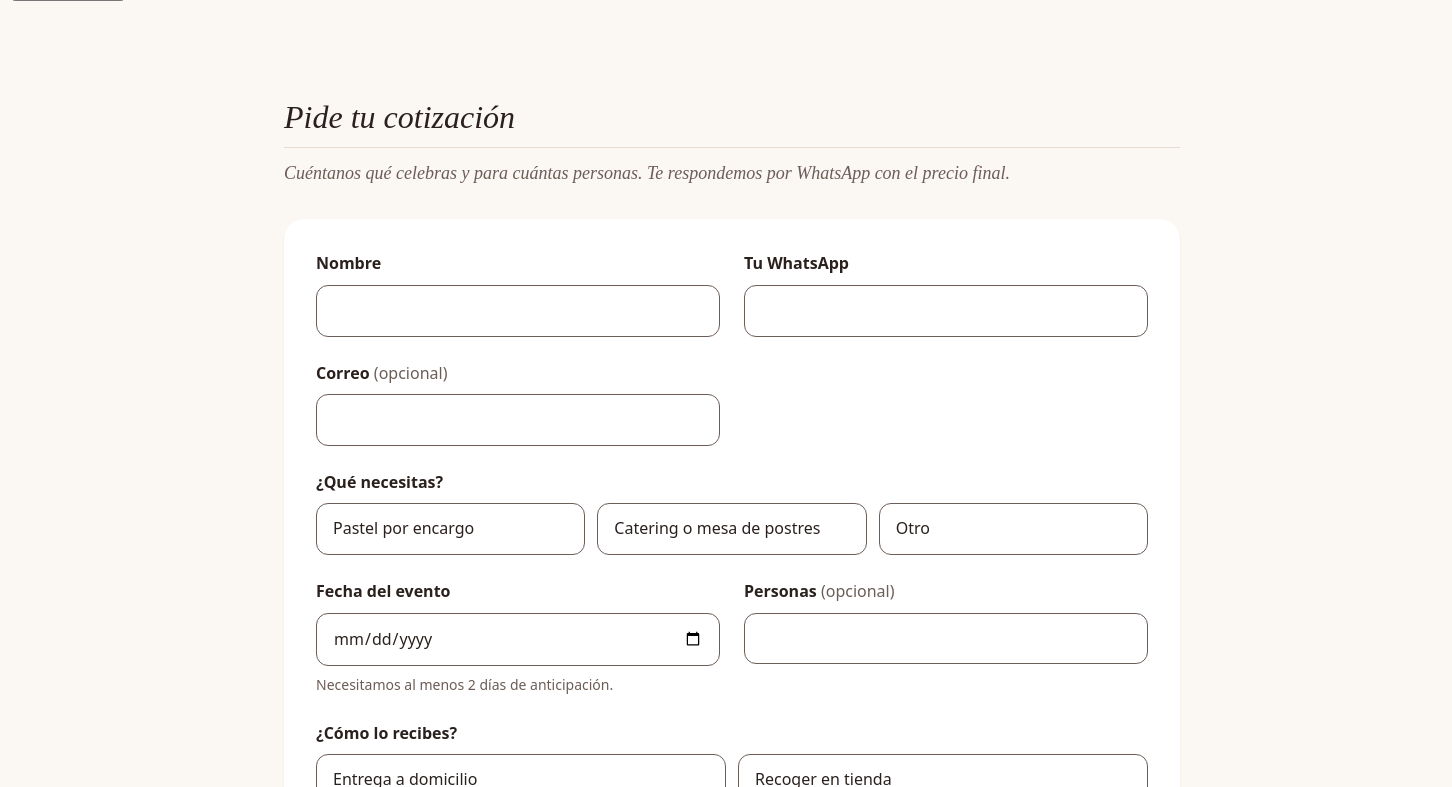
ContactForm › con datos válidos envía, muestra el éxito y ofrece continuar por WhatsApp con el resumen
Type "Ana Pérez" into the field labelled "Nombre" at (518, 311), box [316,285,720,337]
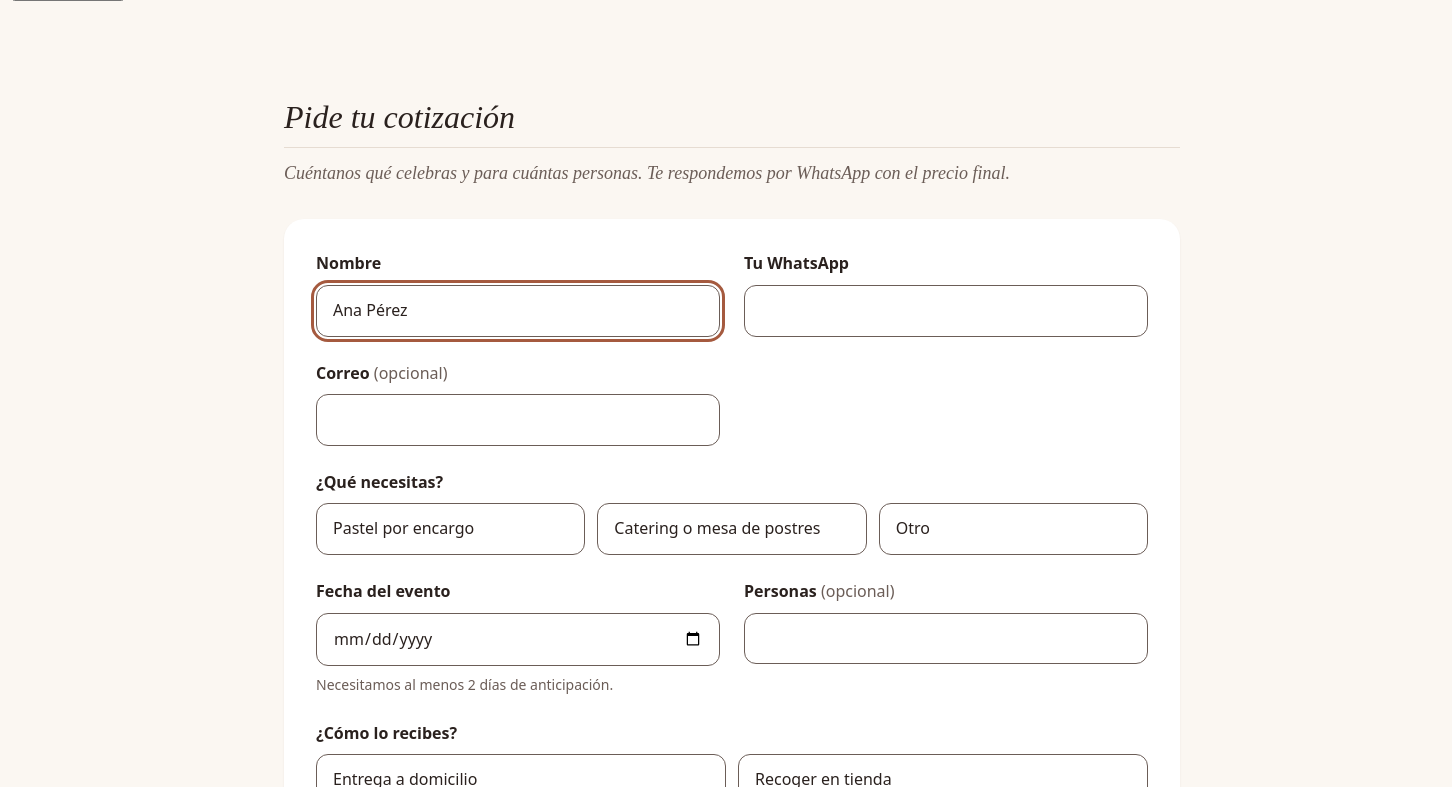
Type "55 1234 5678" into the field labelled "Tu WhatsApp" at (946, 311), box [744,285,1148,337]
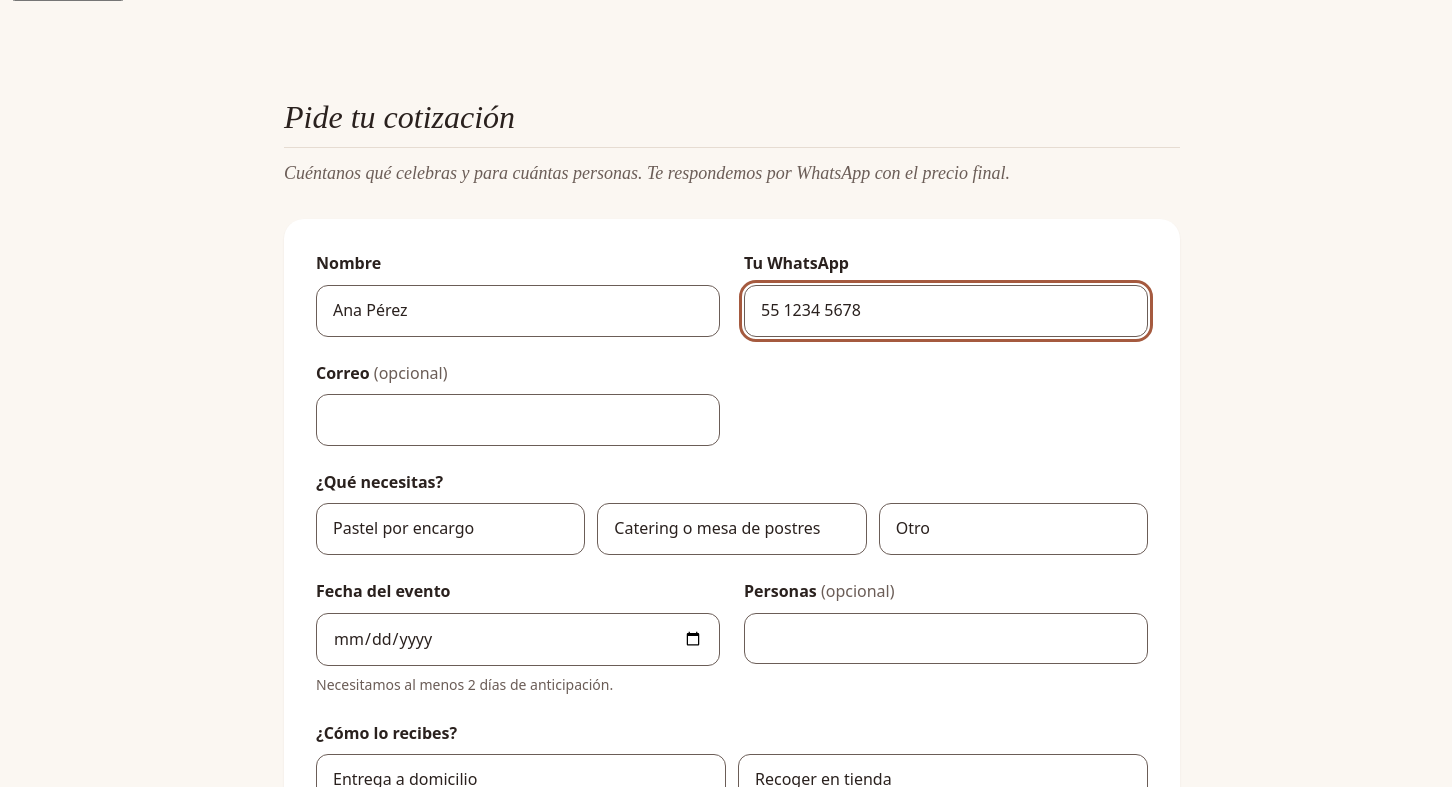
Click the radio button labelled "Pastel por encargo" at (451, 529), box [316,503,585,555]
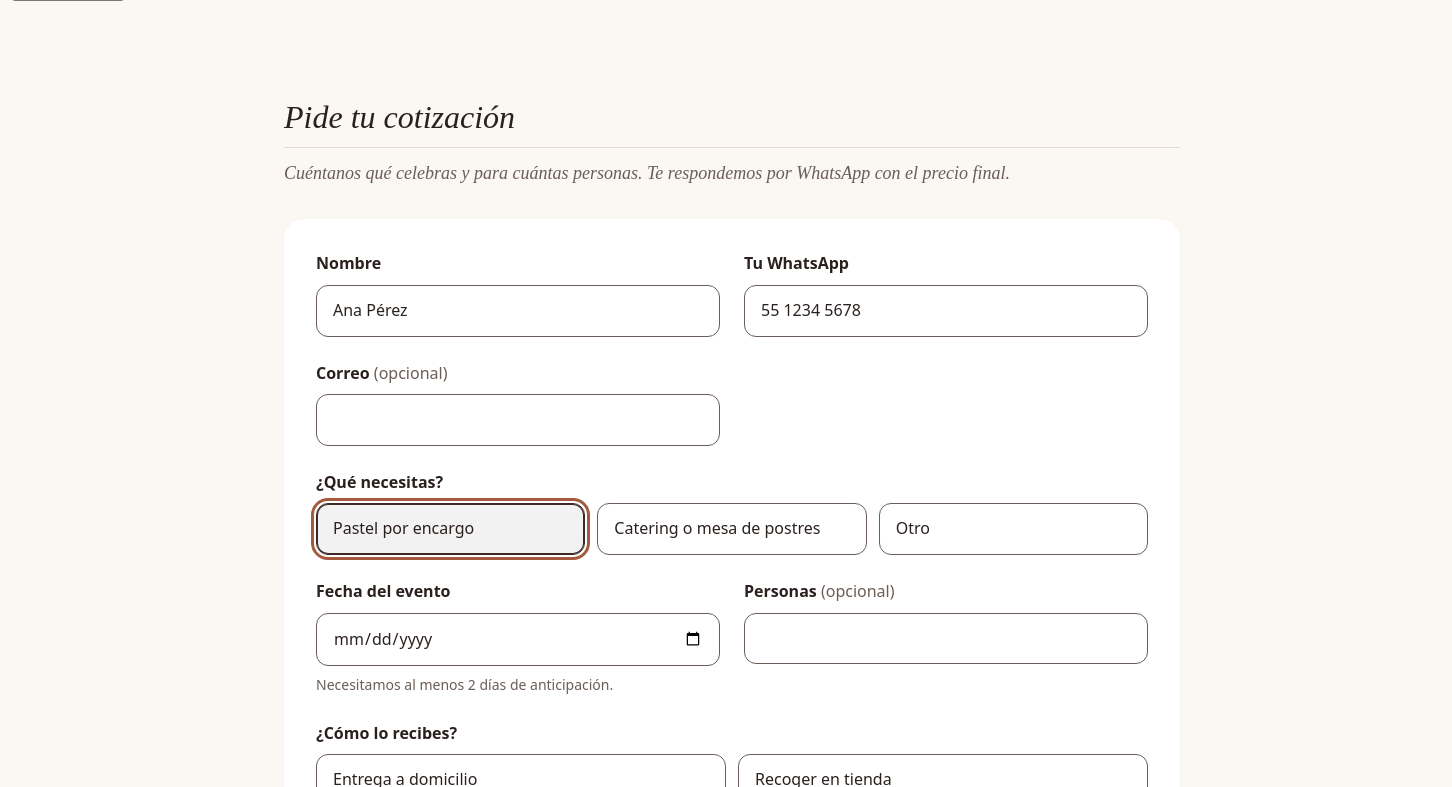
Type "2026-11-05" into the date field labelled "Fecha del evento" at (518, 639), box [316,612,720,666]
(page scrolled)
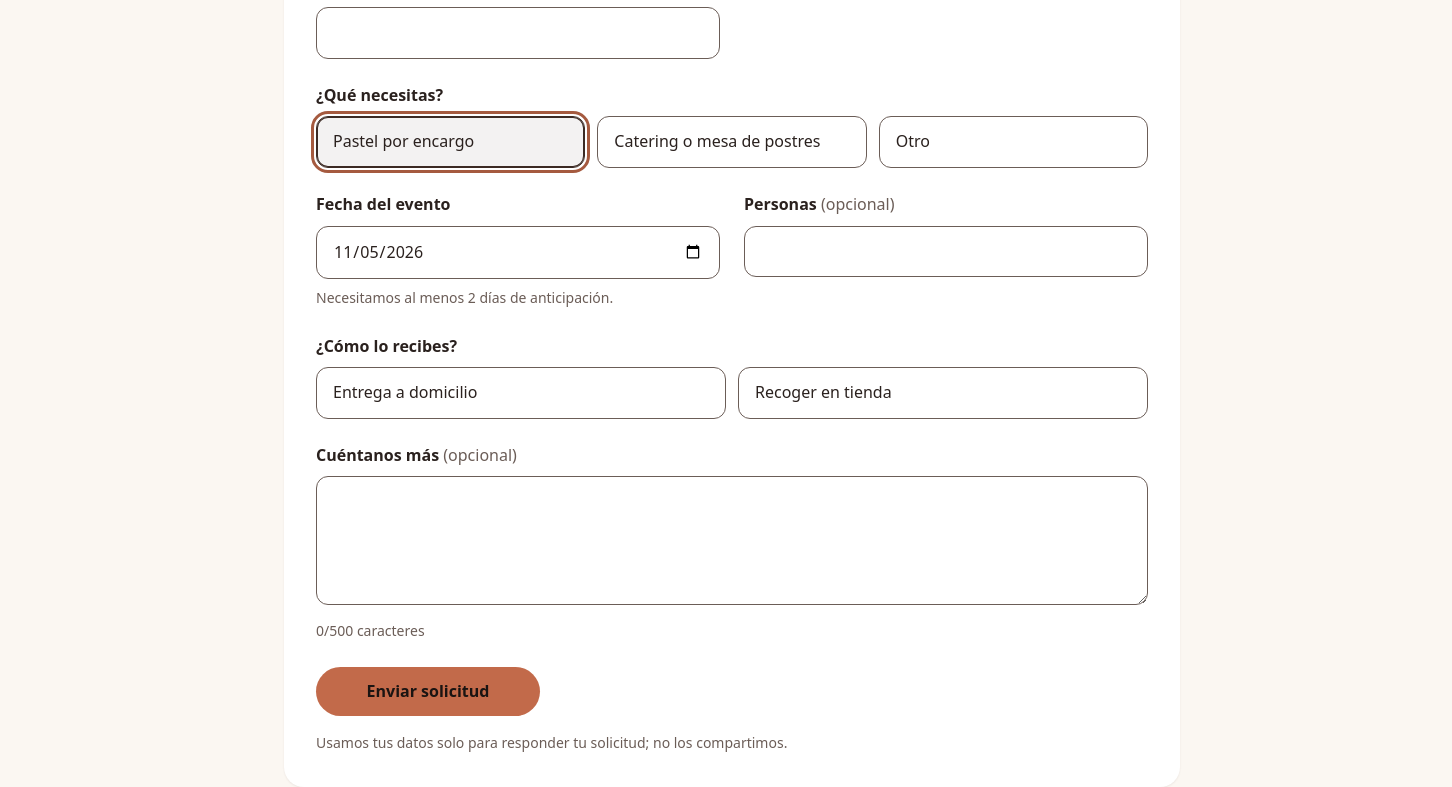
Click the radio button labelled "Recoger en tienda" at (943, 393), box [738,367,1148,419]
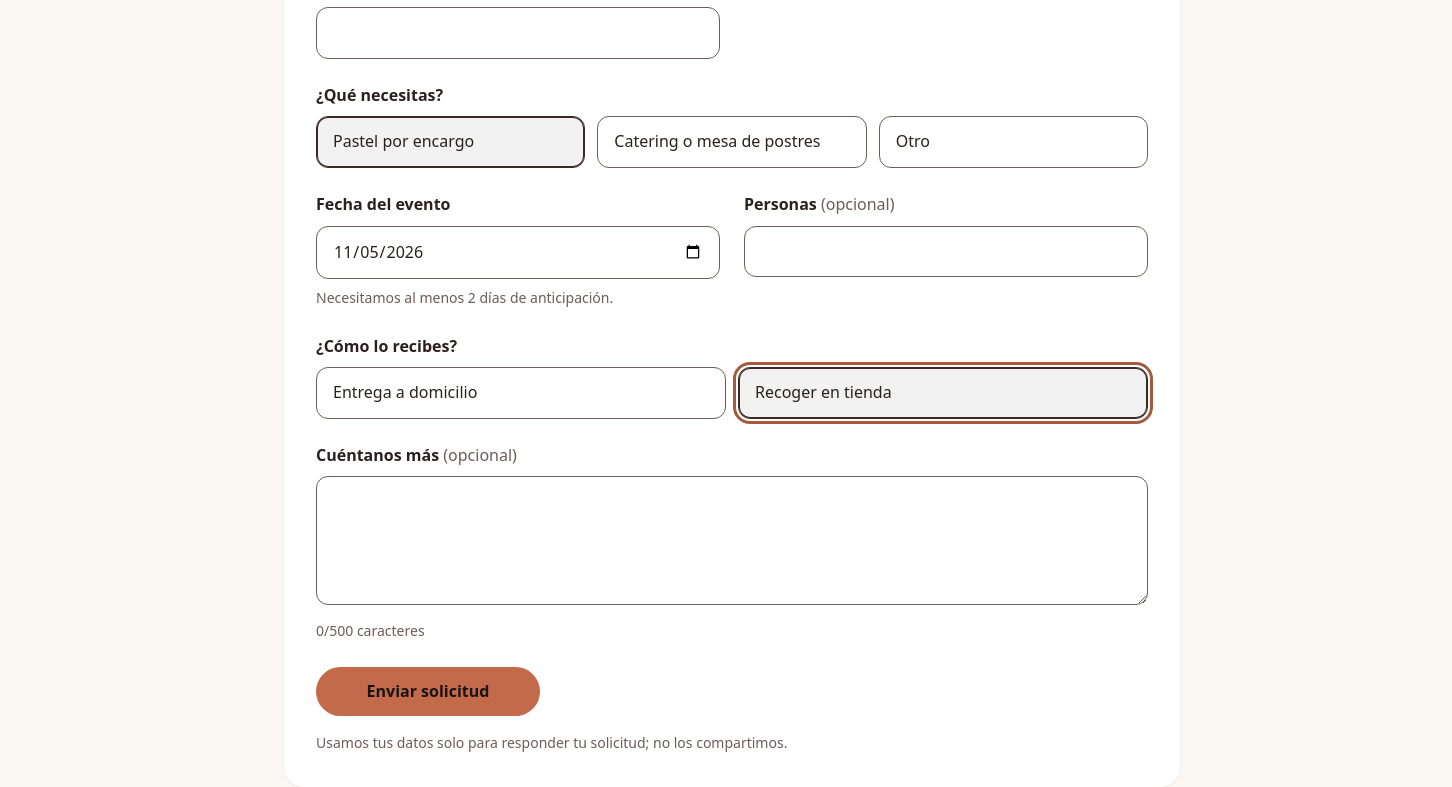
Click the button "Enviar solicitud" at (428, 692), box [316,667,540,716]
(page scrolled)
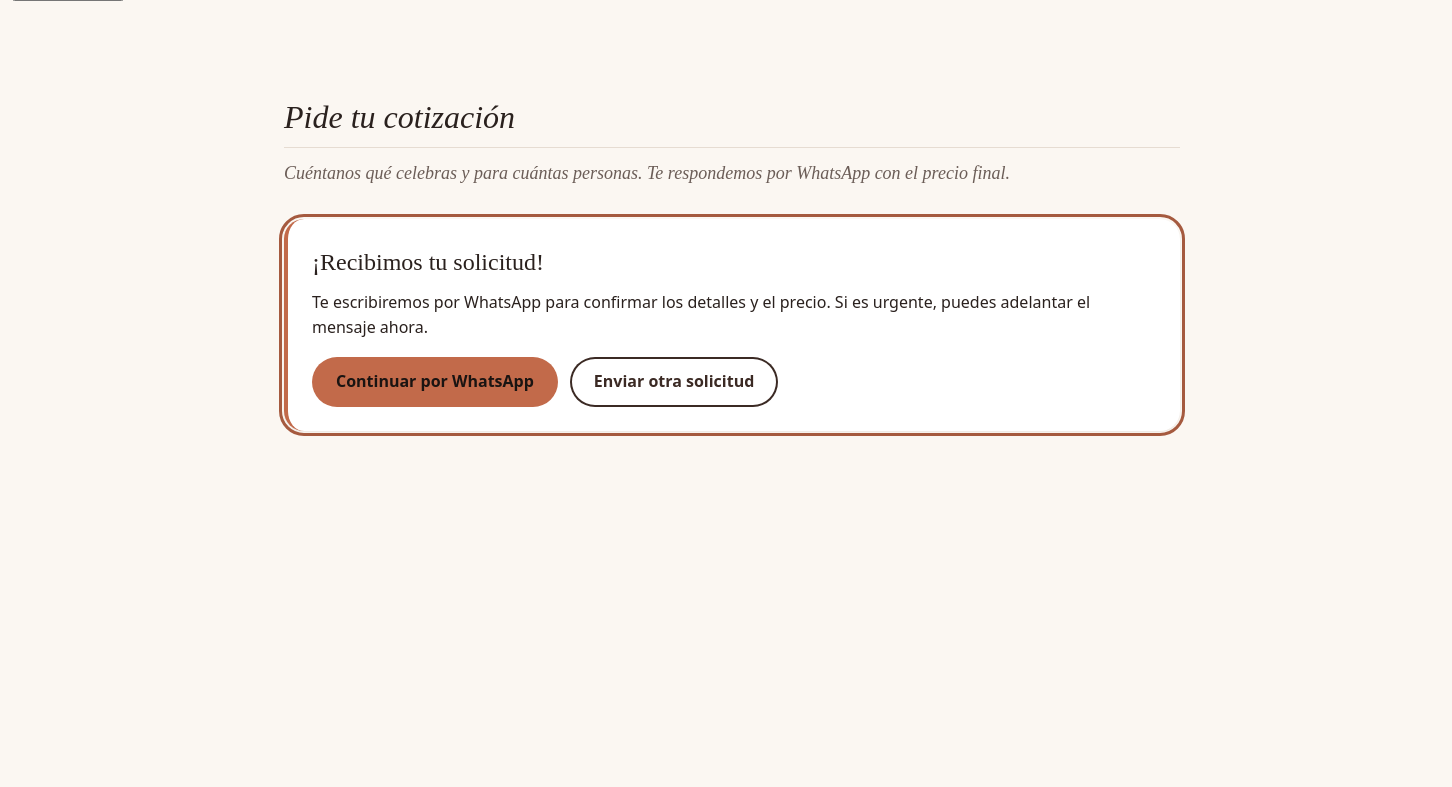
Expected: the message shows "¡Recibimos tu solicitud!", [312,249,544,275]
